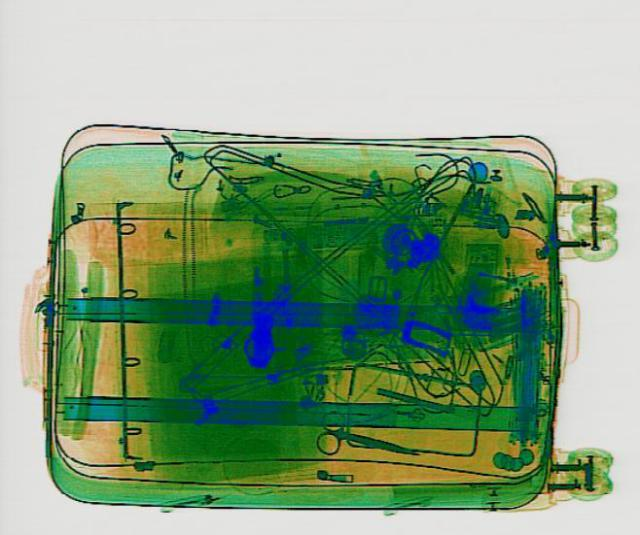Scissors: (310, 406, 428, 471)
